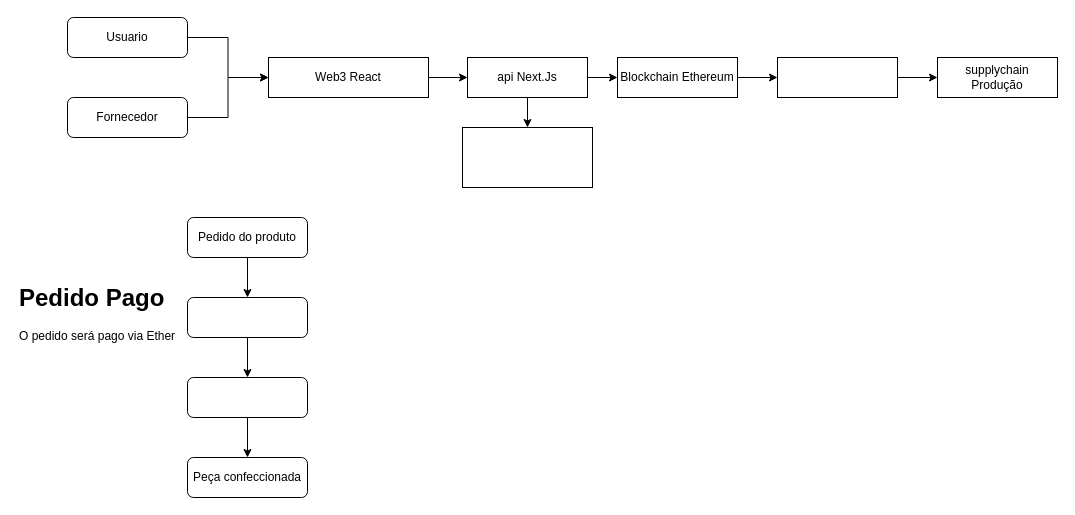
Image size: 1075x515. Some labels were removed from this diagram. The centre of each missing label's shape, as x and y in pixels:
Banco de dados Firebase Storage/planetSQL: (x=527, y=157)
Materia Prima recebida: (x=247, y=397)
Pedido Pago: (x=247, y=317)
Smart contract Solidity: (x=837, y=77)
